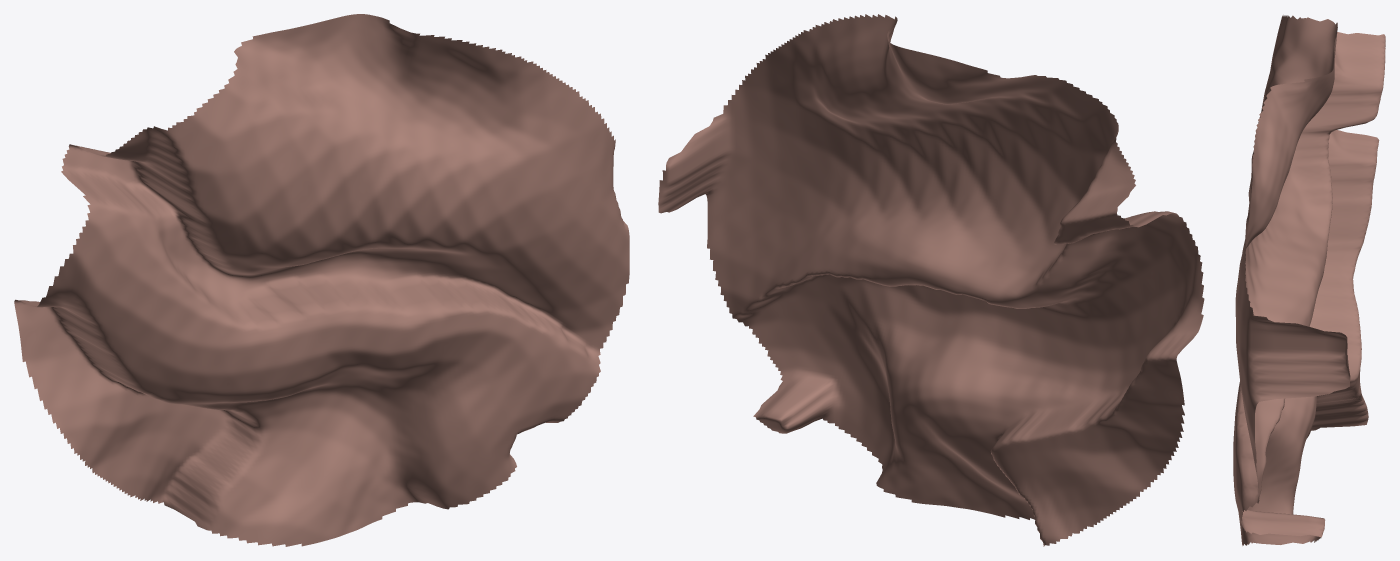
Rendered from cortex.glb.
3 views of the same model, side by side, from view 1: azimuth 30°, elevation 25°; view 2: azimuth 150°, elevation 25°; view 3: azimuth 270°, elevation 25° (orthographic). The views are drawn at different scales.
Visible parts, largest first — view 1: cortex; view 2: cortex; view 3: cortex.
Boxes of the visible parts, x1=… form: cortex: x1=14, y1=14, x2=629, y2=546; cortex: x1=658, y1=14, x2=1204, y2=546; cortex: x1=1233, y1=15, x2=1385, y2=545.
Bounding box in the file's own units: 3.76 × 3.2 × 0.9643.
